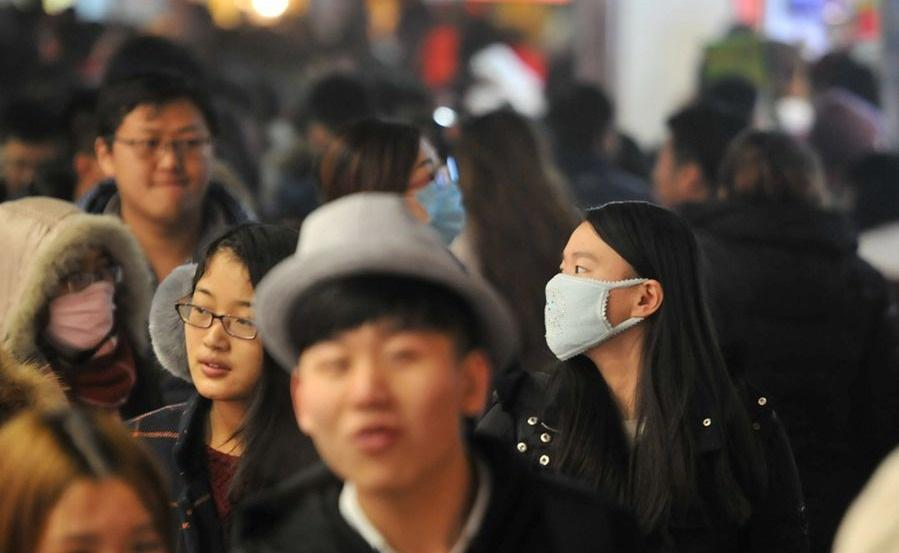NONE: (309, 337, 461, 479), (189, 287, 273, 394)
OK: (539, 244, 654, 359), (120, 122, 206, 216), (385, 157, 464, 252), (50, 260, 125, 347)
